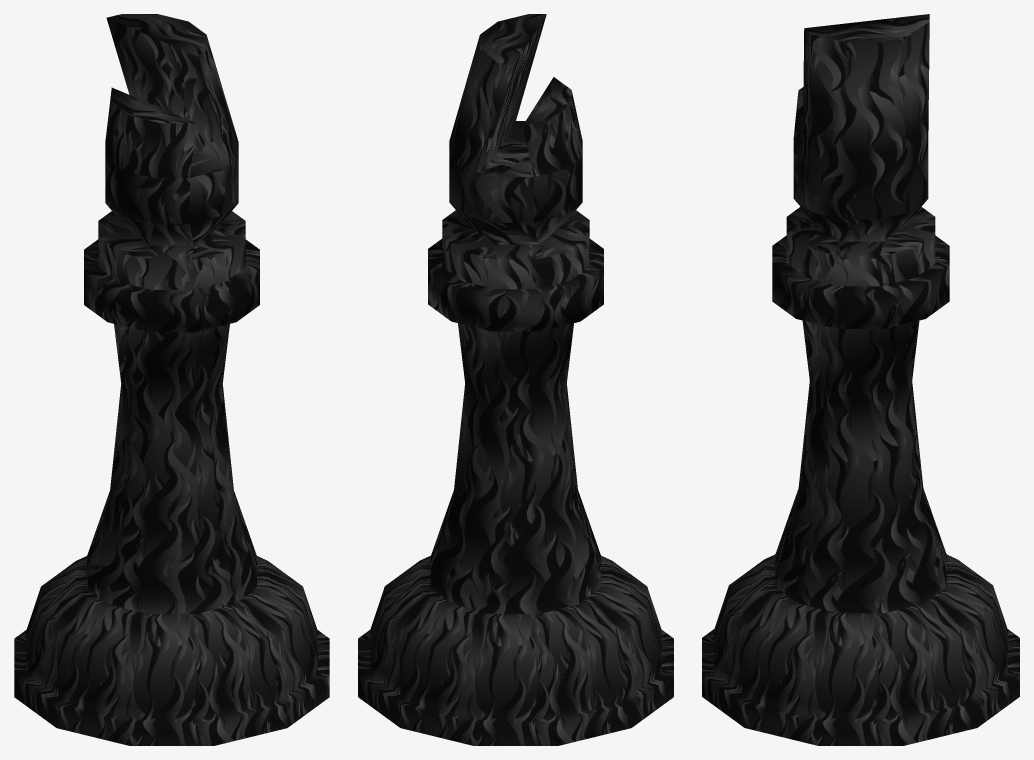
The model's file is Bishop.glb.
The picture shows the model from 3 angles, left to right: view 1: azimuth 30°, elevation 25°; view 2: azimuth 150°, elevation 25°; view 3: azimuth 270°, elevation 25°; orthographic projection.
Visible parts, largest first — view 1: Bishop; view 2: Bishop; view 3: Bishop.
Boxes of the visible parts, x1,y1,x2,y2 form: Bishop: (14, 14, 329, 745); Bishop: (358, 14, 673, 745); Bishop: (702, 14, 1019, 745).
Bounding box in the file's own units: 0.1256 × 0.283 × 0.1256.
Materials: 1 (1 with a texture image).
